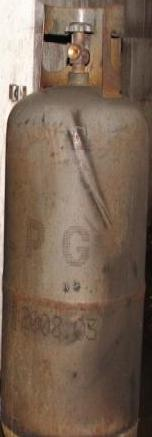cylinder: (1, 1, 152, 437)
